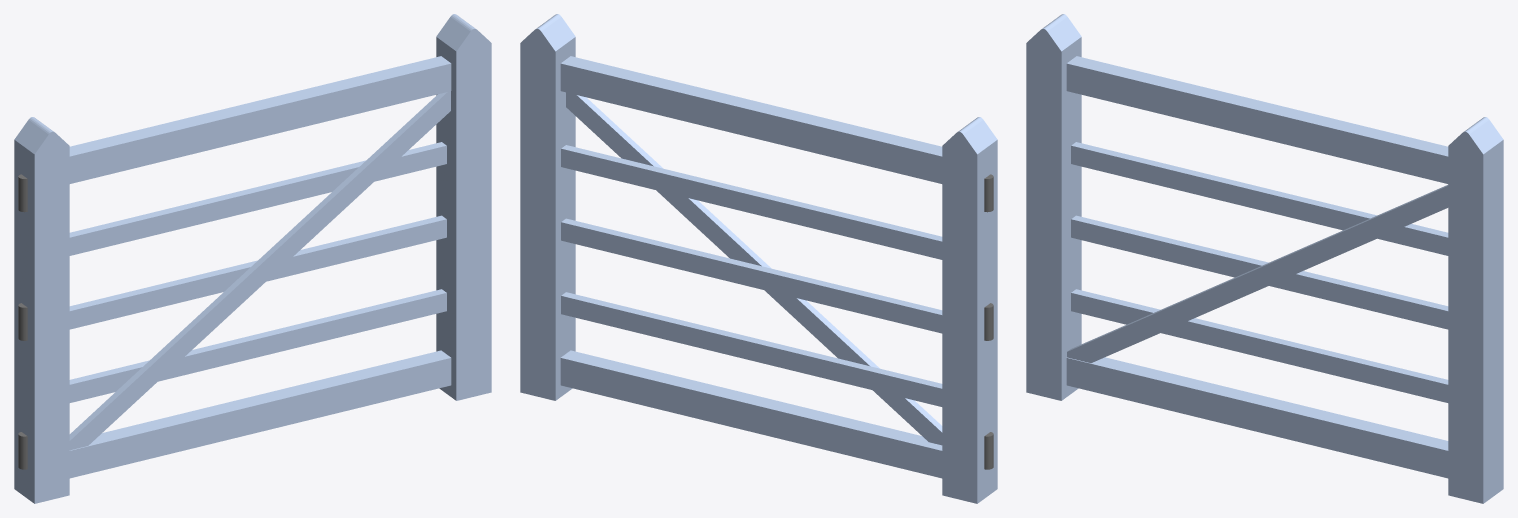
The model's file is Barn Fence gates Left.glb.
The picture shows the model from 3 angles, left to right: view 1: azimuth 30°, elevation 25°; view 2: azimuth 150°, elevation 25°; view 3: azimuth 330°, elevation 25°; orthographic projection.
Parts seen in each view (by area): view 1: Barn fence gate Left; view 2: Barn fence gate Left; view 3: Barn fence gate Left.
Boxes of the visible parts, x1,y1,x2,y2 form: Barn fence gate Left: (14, 14, 491, 503); Barn fence gate Left: (520, 14, 997, 503); Barn fence gate Left: (1026, 14, 1503, 503).
Size of the model in its own units: 2.63 by 2 by 0.2.
2 materials, 2 textured.
